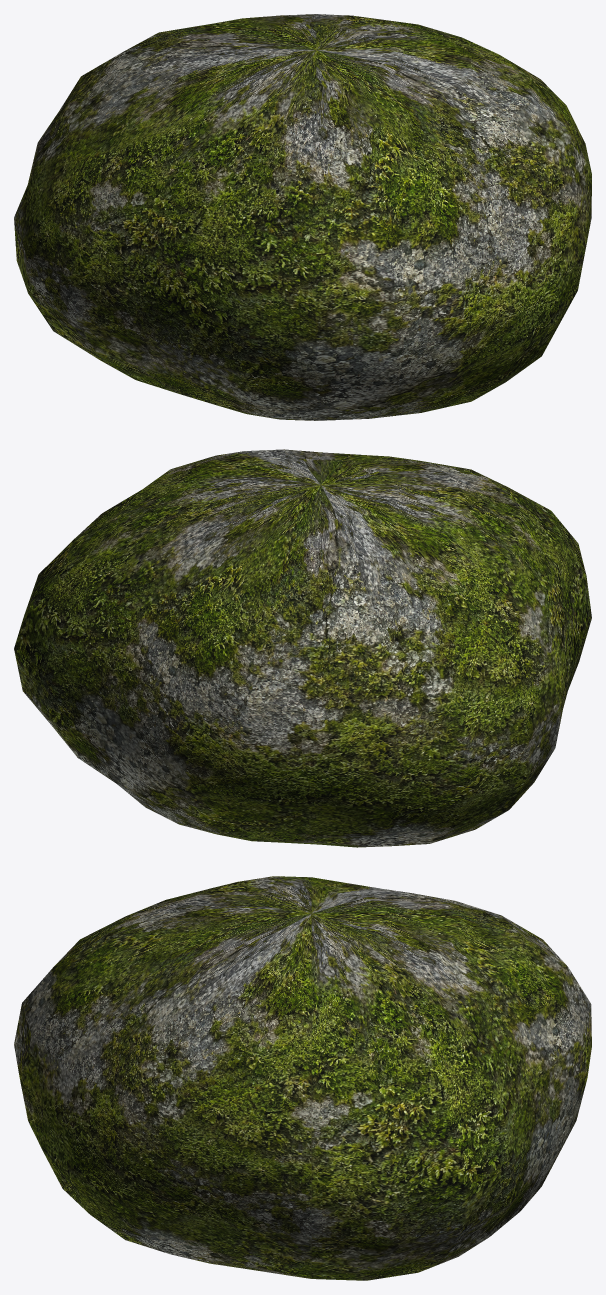
Rendered from rock.glb.
3 views of the same model, one above another, from view 1: azimuth 30°, elevation 25°; view 2: azimuth 150°, elevation 25°; view 3: azimuth 270°, elevation 25° (orthographic). The views are drawn at different scales.
Size of the model in its own units: 2.05 by 1.28 by 2.04.
Materials: 1 (1 with a texture image).
